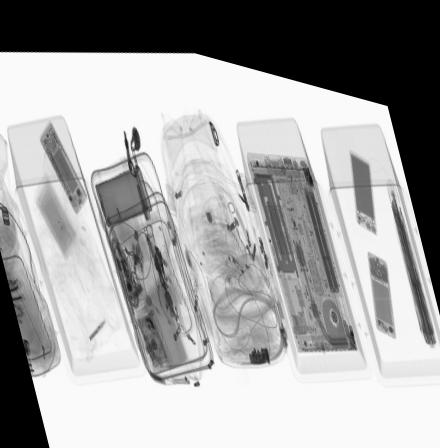Powerbank: (347, 128, 377, 215)
